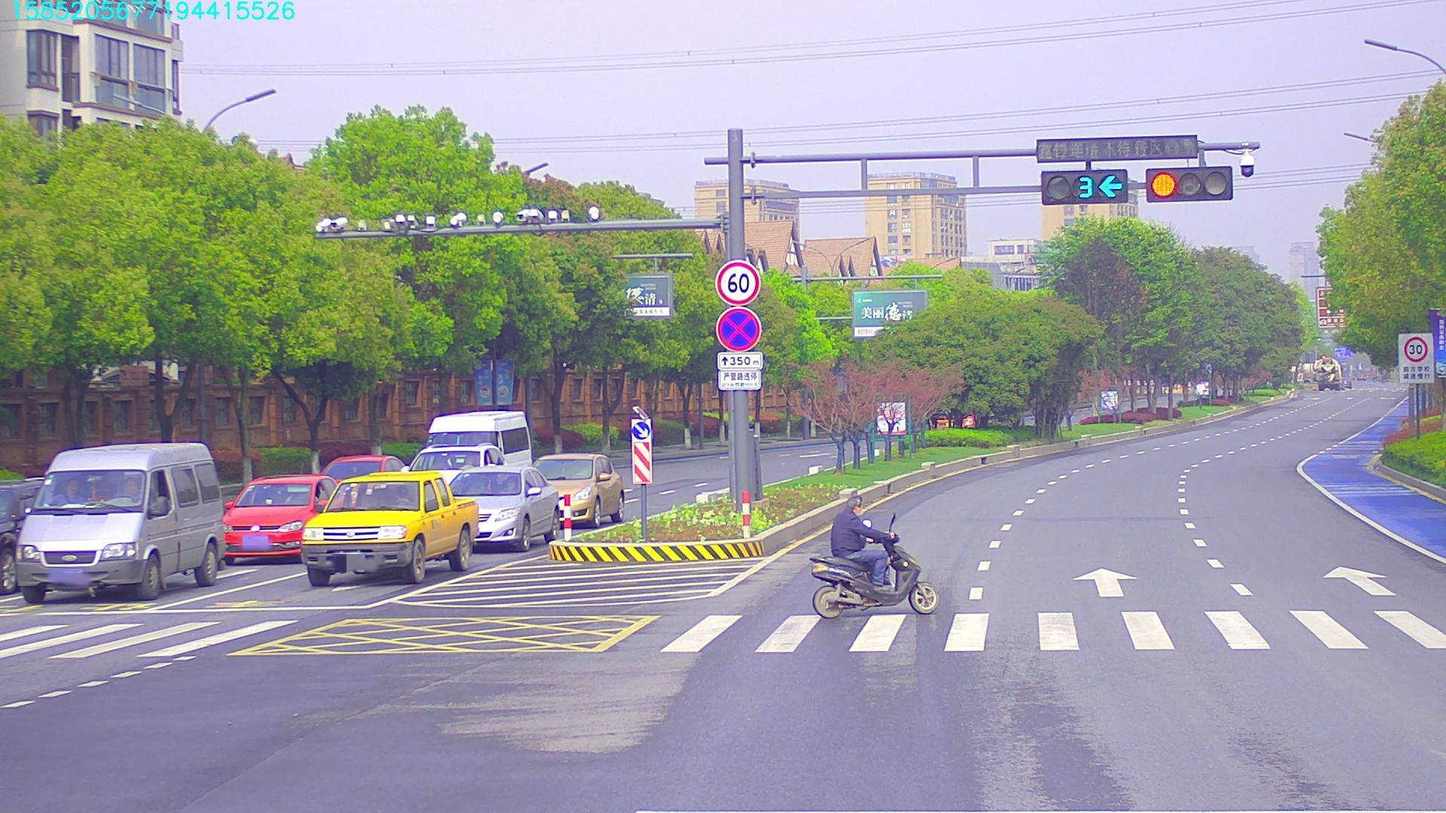green: (1035, 173, 1129, 199)
red: (1146, 172, 1231, 199)
